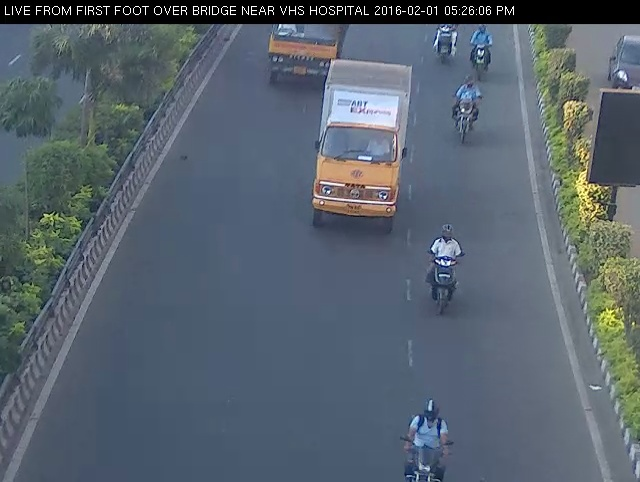Bus: (306, 52, 417, 245), (257, 11, 354, 95)
Person: (394, 390, 465, 481), (417, 217, 472, 325), (445, 72, 491, 155), (463, 11, 502, 85), (428, 21, 460, 69)
